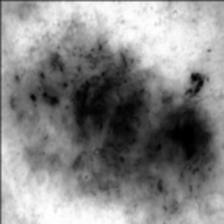Potentially Malignant Skin Tumors: (162, 121, 202, 170)
